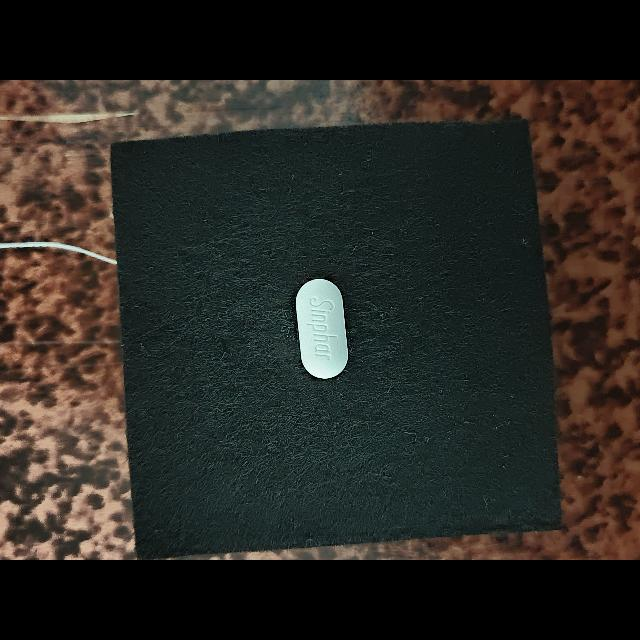Intact Pill: (296, 278, 348, 379)
